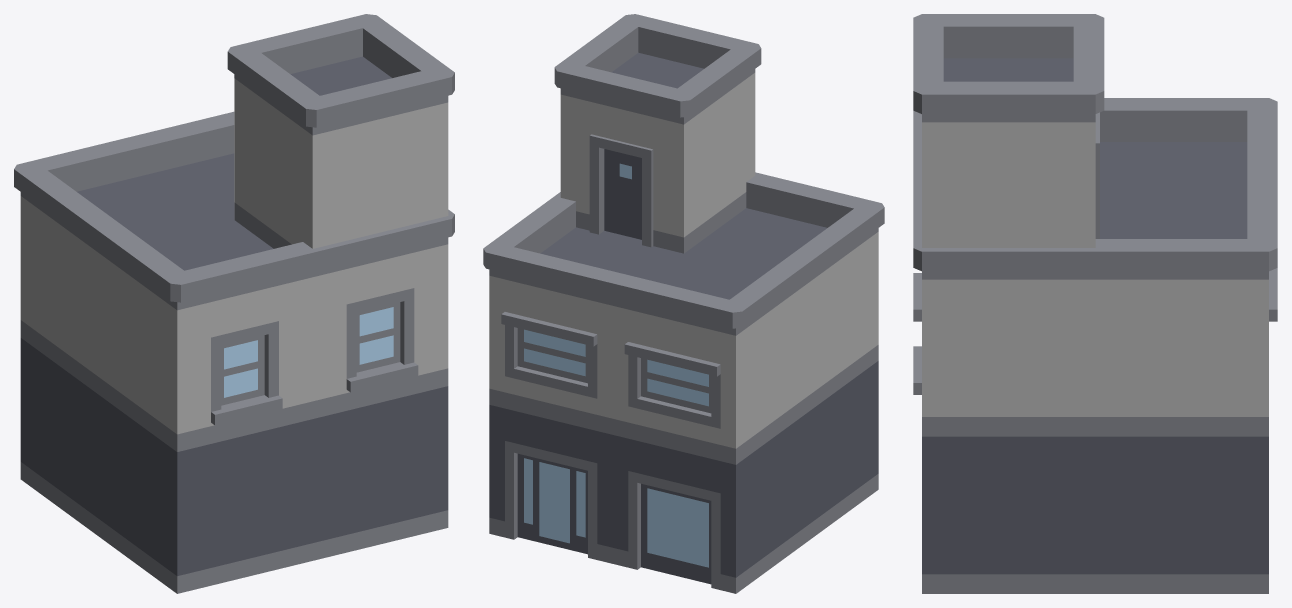
File: small_buildingF.obj
The picture shows the model from 3 angles, left to right: view 1: azimuth 30°, elevation 25°; view 2: azimuth 150°, elevation 25°; view 3: azimuth 270°, elevation 25°; orthographic projection. The views are drawn at different scales.
Visible parts, largest first — view 1: small_buildingF; view 2: small_buildingF; view 3: small_buildingF.
Boxes of the visible parts, x1,y1,x2,y2 form: small_buildingF: (14,14,454,593); small_buildingF: (483,14,884,593); small_buildingF: (913,14,1277,593).
Size of the model in its own units: 0.84 by 1.28 by 0.84.
